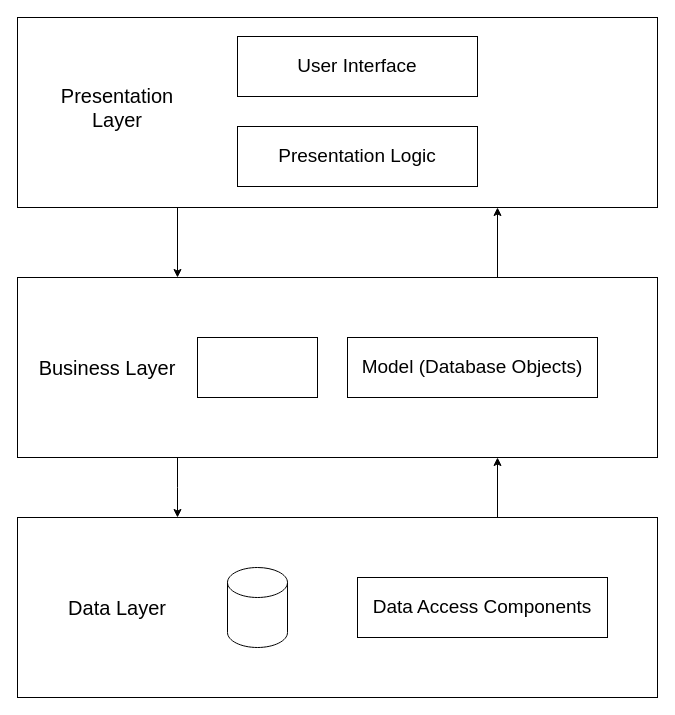
Image size: 675x715. Some labels were removed from this diagram. Each missing label, with the box of its shape:
Controller: (196, 336, 318, 398)
SQLite: (226, 566, 288, 648)
